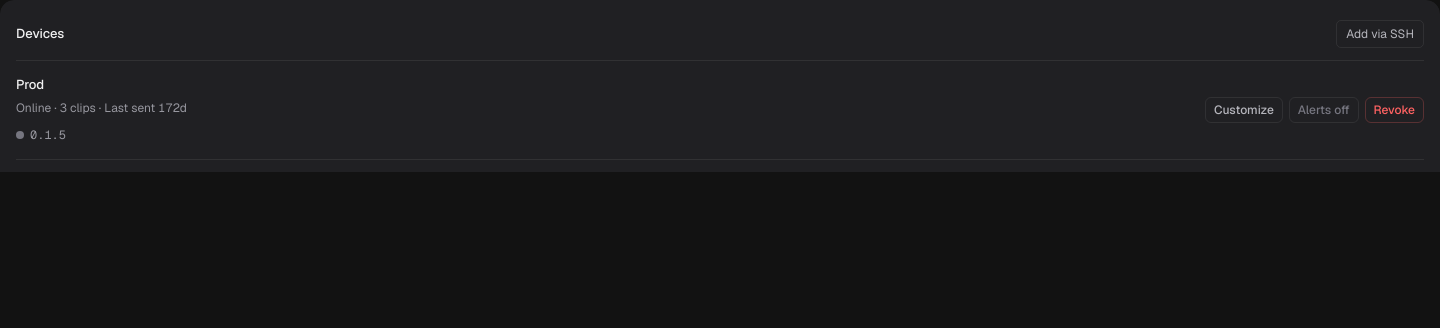
it: DevicesPanel › prefills the Name input with the stored nickname (not the hostname fallback)
What coordinates should you click on to do the following:
click the button with aria-label "customize prod"
I would click on:
 (1244, 110)
Its box is [1205,97,1283,123].
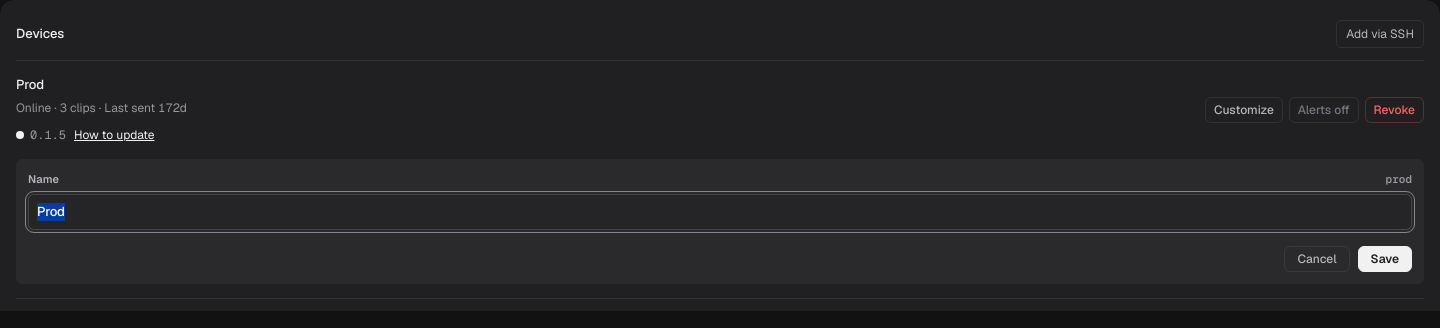
Check: the field named "device display name" holds "Prod", box [28,194,1412,230]
Check: the text "prod" is shown, box [1386,171,1412,188]
